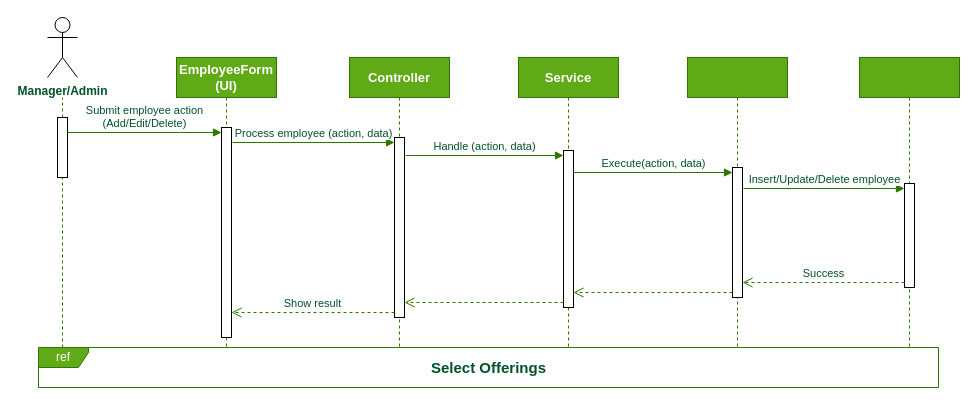
Image size: 977x405. Some labels were removed from this diagram. The box of each missing label's shape, as (x1, y1, x2, y2) in pixels:
DAO: (686, 56, 788, 378)
Database: (858, 56, 960, 378)
